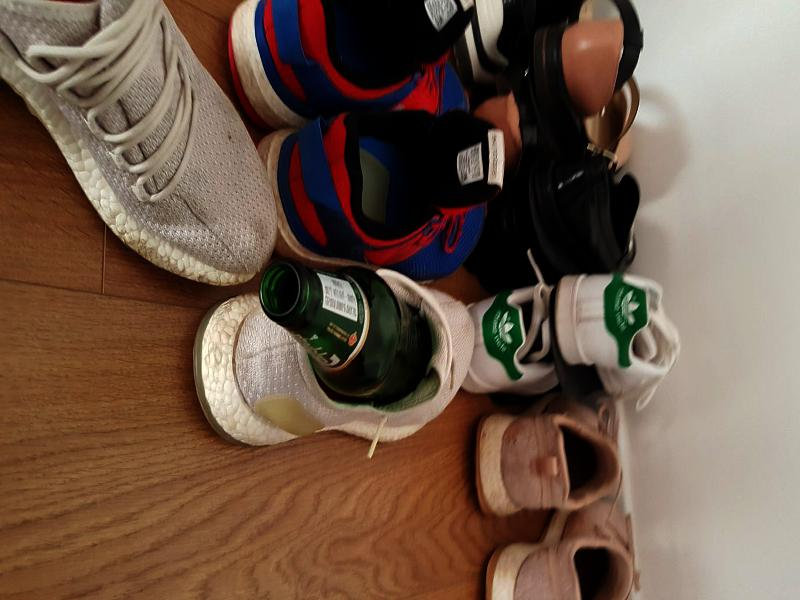Beer: (260, 261, 429, 400)
